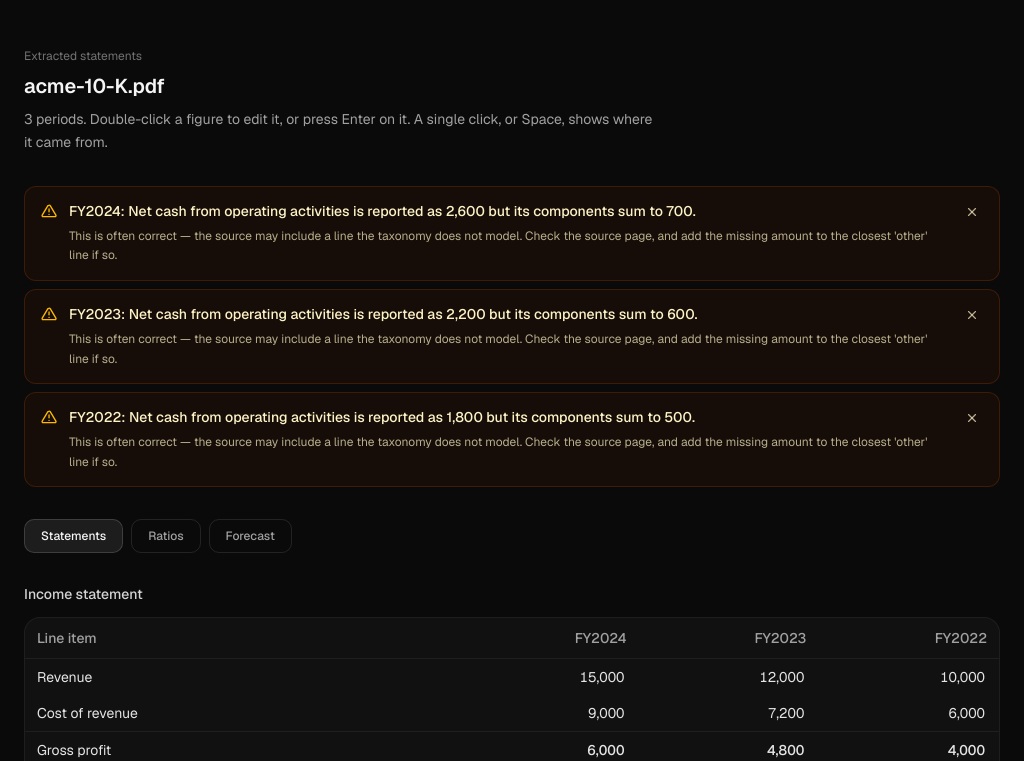
Test: the forecast tab › a blocking finding renders its message and no numeric columns
Click the tab "Forecast".
click(250, 536)  # box [209,519,292,553]
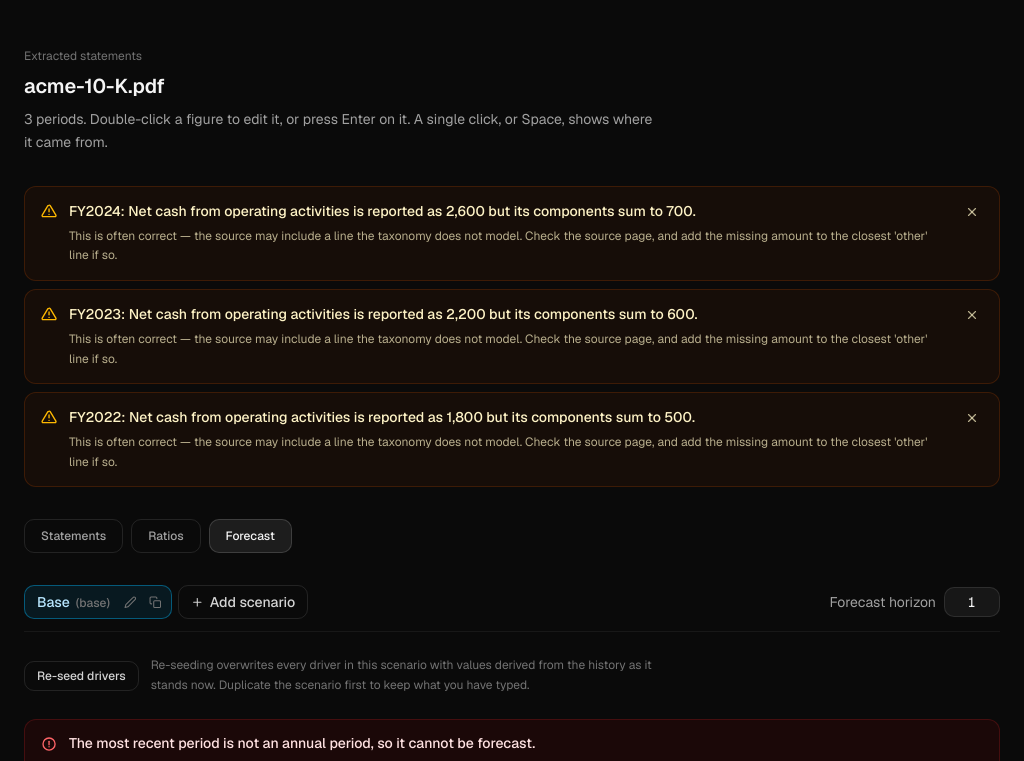
Result: the text "cannot be forecast" is shown at [69,734,535,752]
